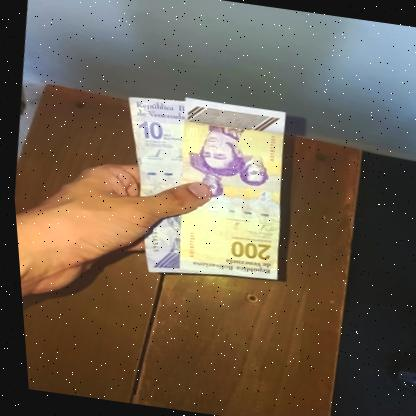ten-front-vef: (101, 92, 199, 277)
two_hundred-front-vef: (159, 96, 296, 284)
